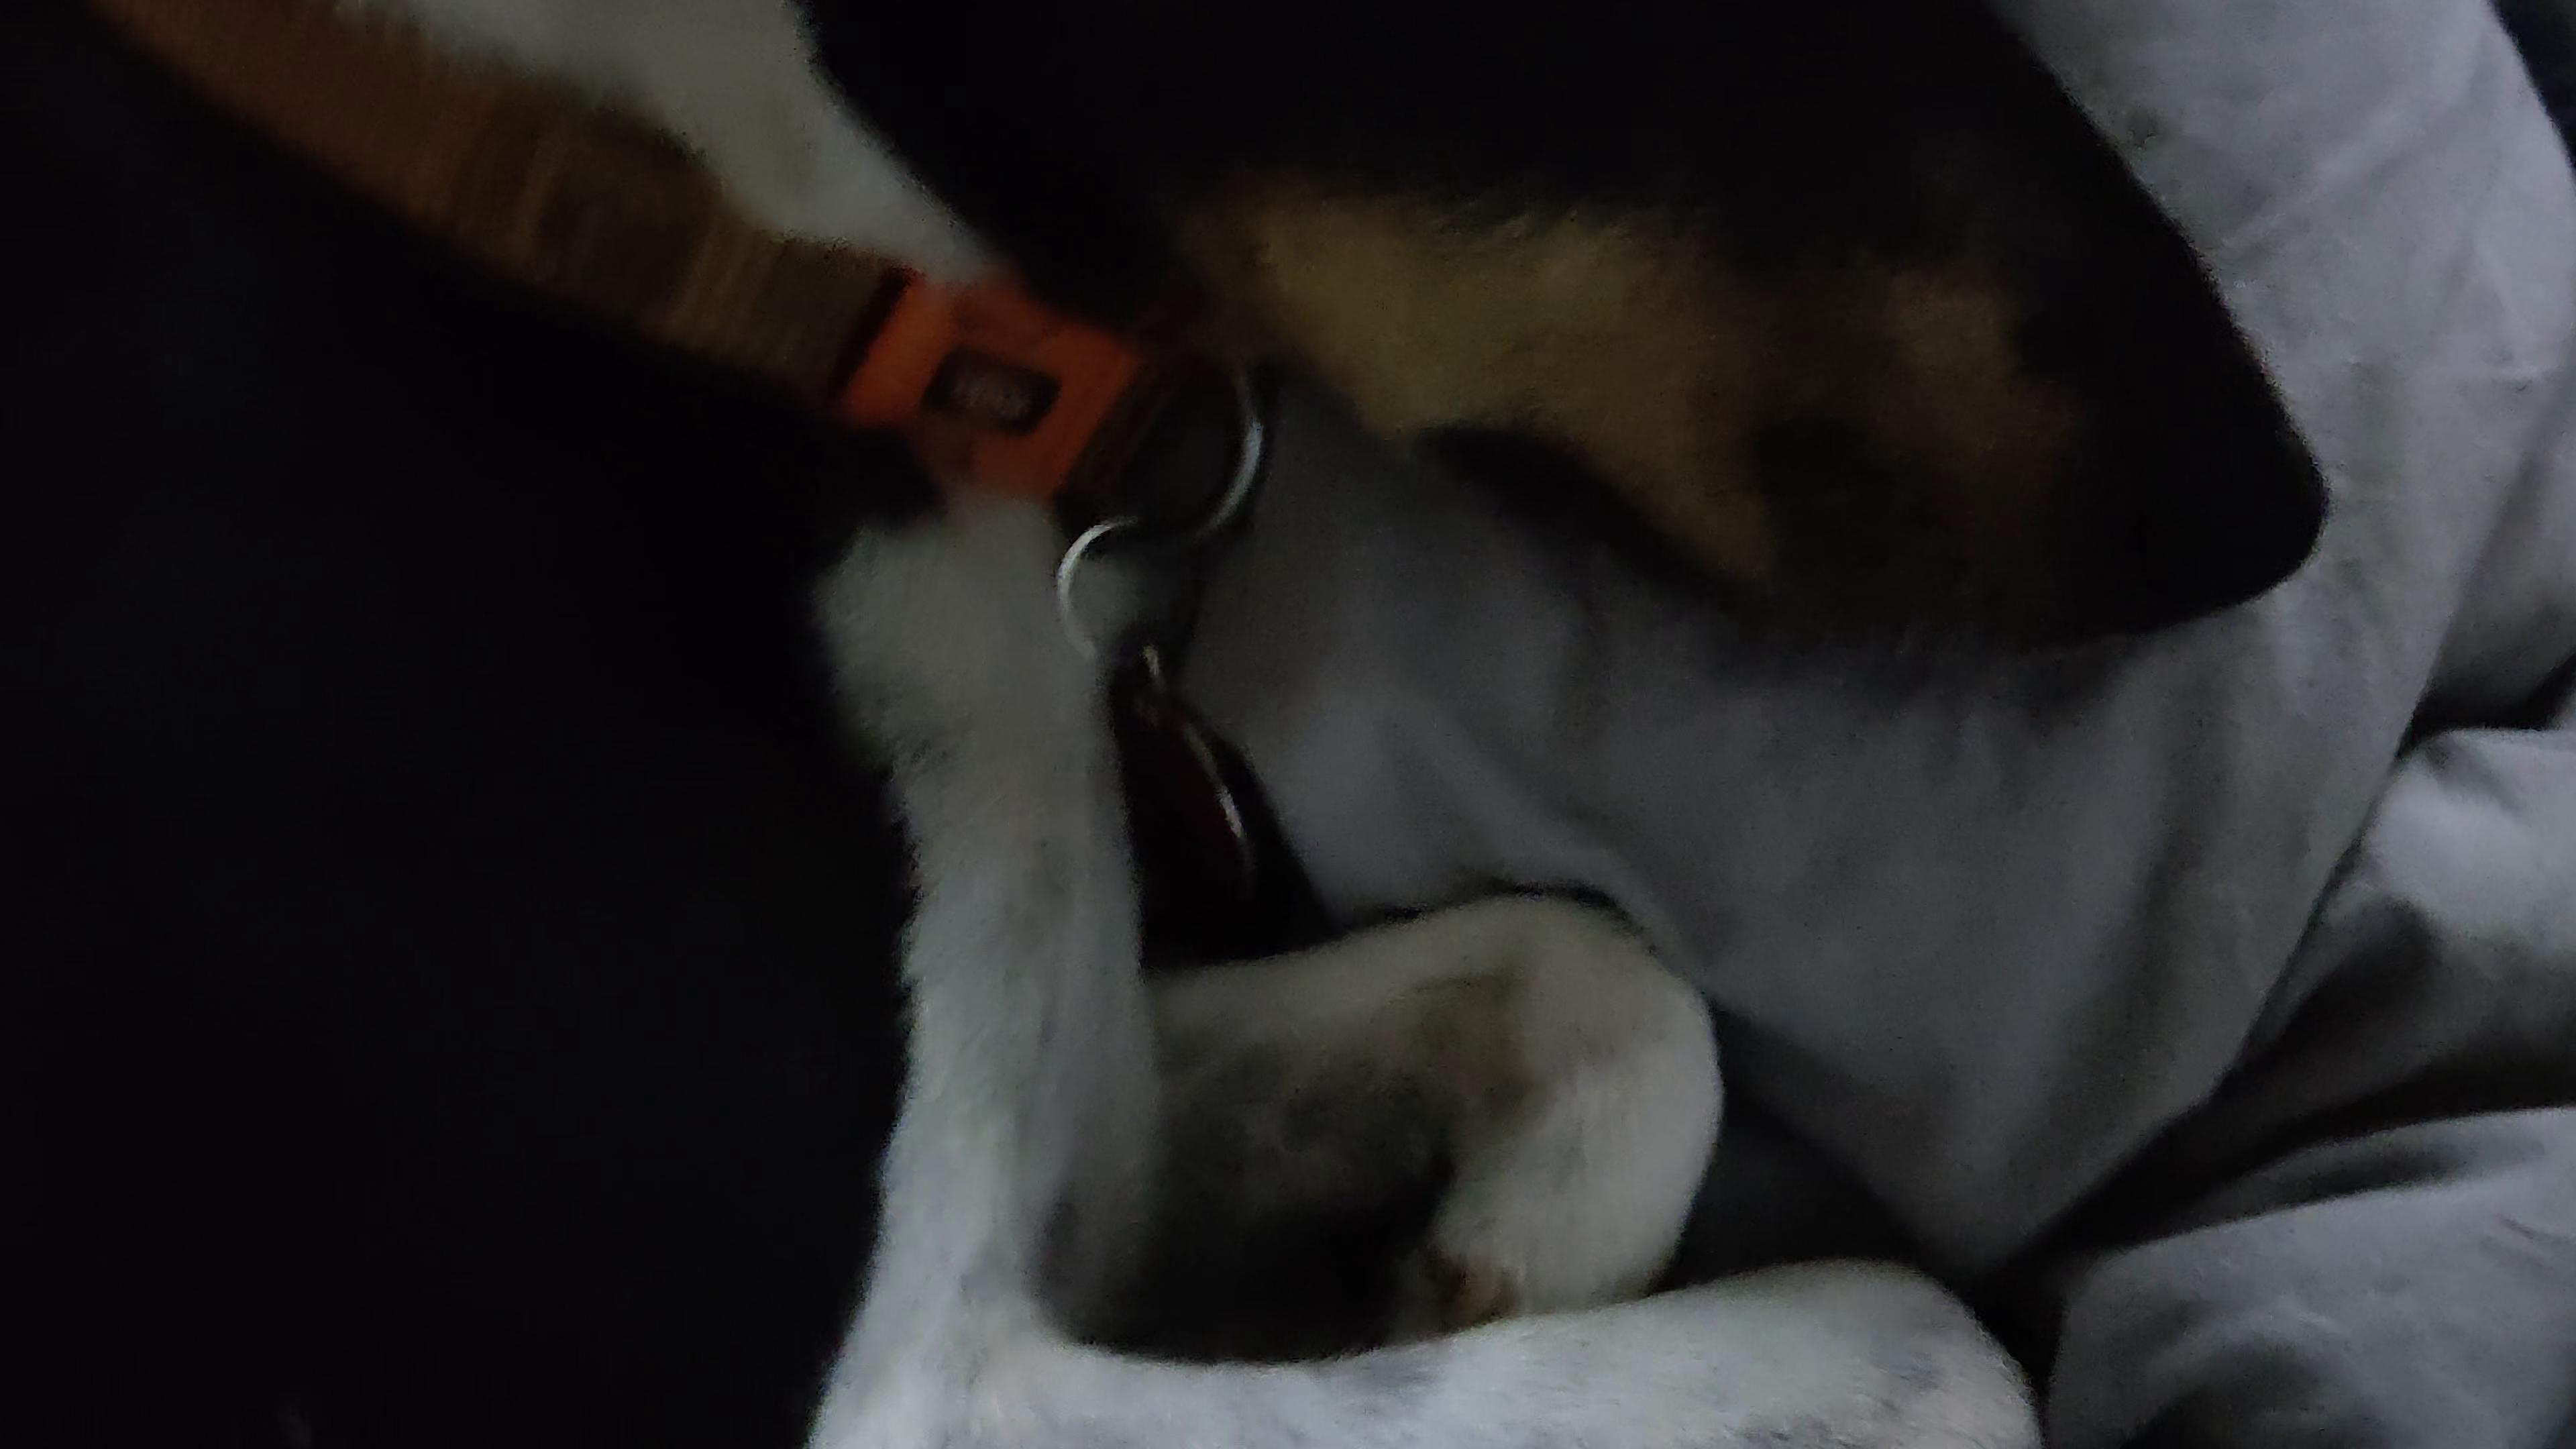Dog: (0, 0, 2350, 1449)
